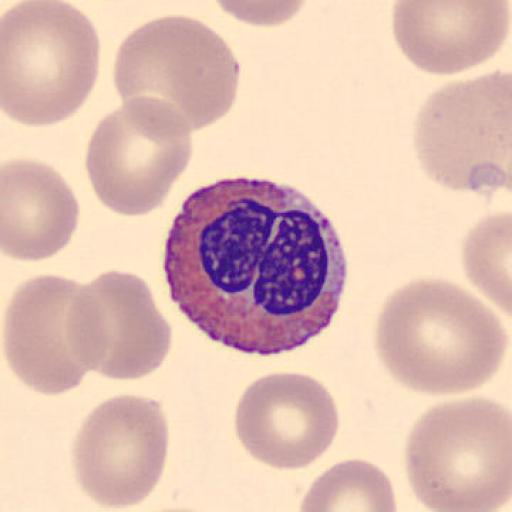RBC: (372, 274, 508, 398), (114, 12, 242, 132), (84, 93, 193, 217), (0, 272, 108, 397), (402, 396, 512, 512), (411, 68, 512, 194), (2, 0, 101, 128), (66, 270, 174, 382), (70, 391, 170, 510), (232, 370, 340, 472), (389, 1, 512, 77), (1, 156, 81, 263), (297, 457, 398, 512), (462, 209, 512, 316), (211, 0, 311, 28)
WBC: (162, 180, 349, 357)
